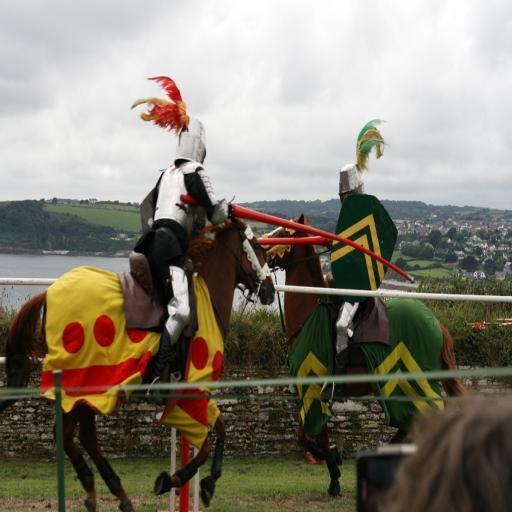horse: (0, 208, 276, 512), (254, 212, 468, 496)
